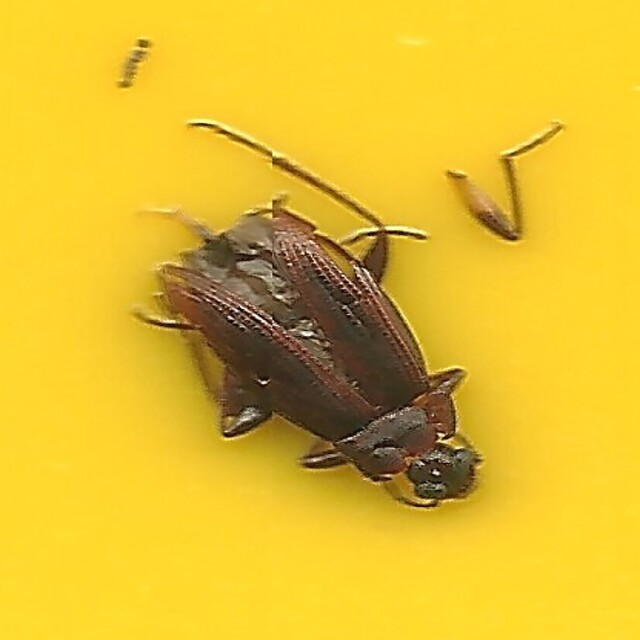Coleoptera: (154, 123, 486, 517)
